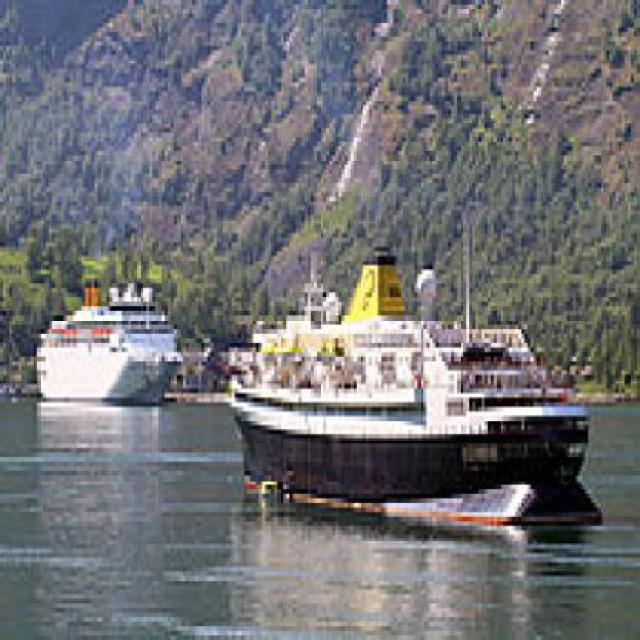cruise: (233, 220, 601, 531), (32, 262, 184, 417)
